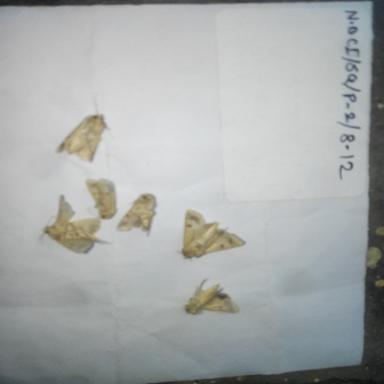abw: (31, 191, 105, 258), (175, 202, 254, 264), (53, 98, 120, 168), (179, 271, 249, 319), (110, 191, 167, 243), (76, 169, 125, 225)
